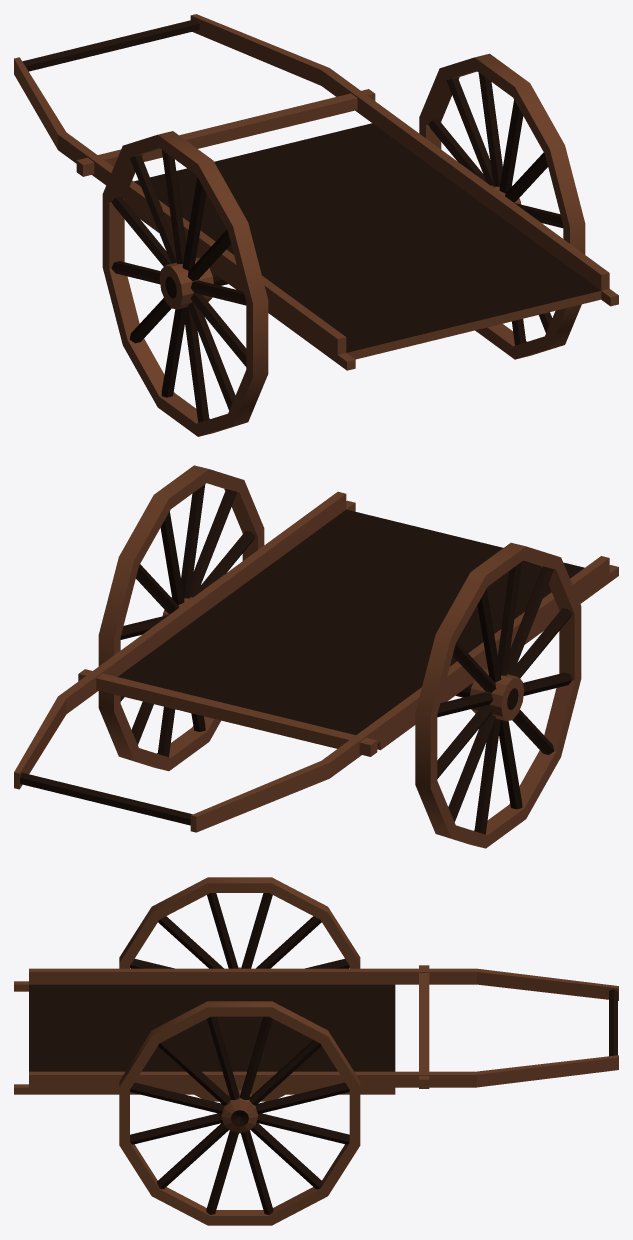
The model's file is Wagon_A.obj.
The picture shows the model from 3 angles, top to bottom: view 1: azimuth 30°, elevation 25°; view 2: azimuth 150°, elevation 25°; view 3: azimuth 270°, elevation 25°; orthographic projection. The views are drawn at different scales.
Parts seen in each view (by area): view 1: Wagon_A; view 2: Wagon_A; view 3: Wagon_A.
Boxes of the visible parts, box(x1,y1,x2,y2) form: Wagon_A: box(14, 14, 618, 436); Wagon_A: box(14, 465, 618, 848); Wagon_A: box(14, 877, 618, 1225).
Size of the model in its own units: 7.66 by 5.8 by 14.56.
